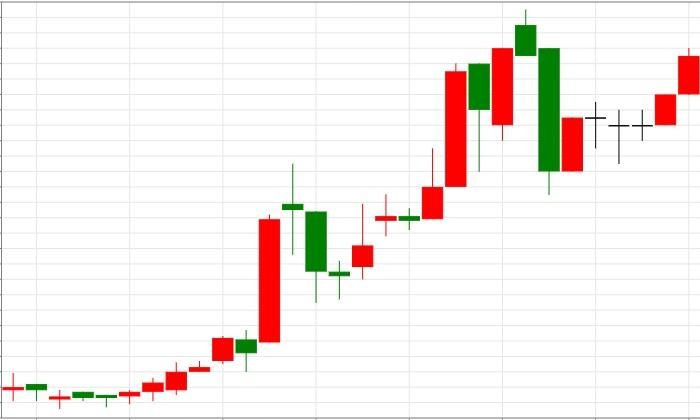evening_star_fall: (48, 163, 328, 409)
